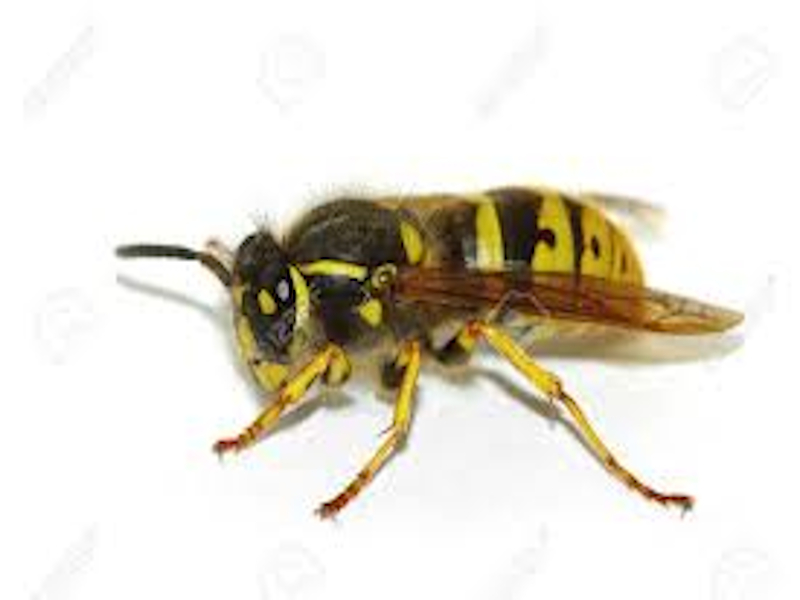chax: (102, 164, 797, 545)
